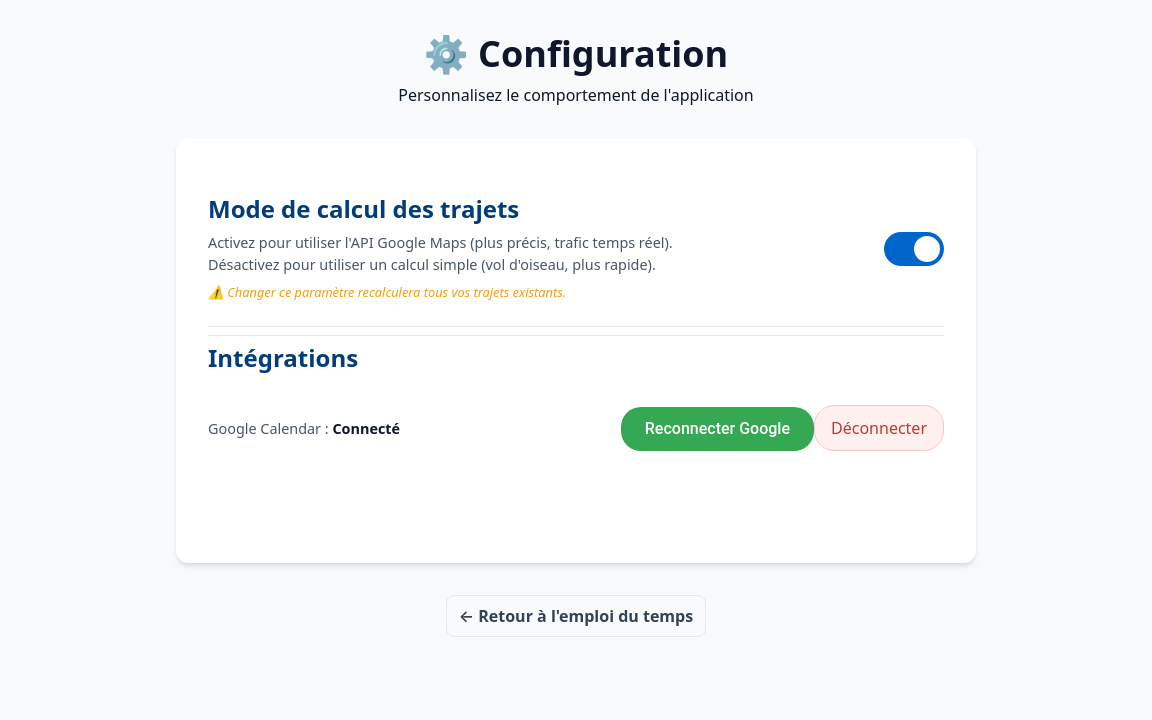
it: SetupPage › Notifications de succès › ✅ Devrait afficher la notification de déconnexion
Click the button "Déconnecter" at (879, 428), box [814,405,944,451]
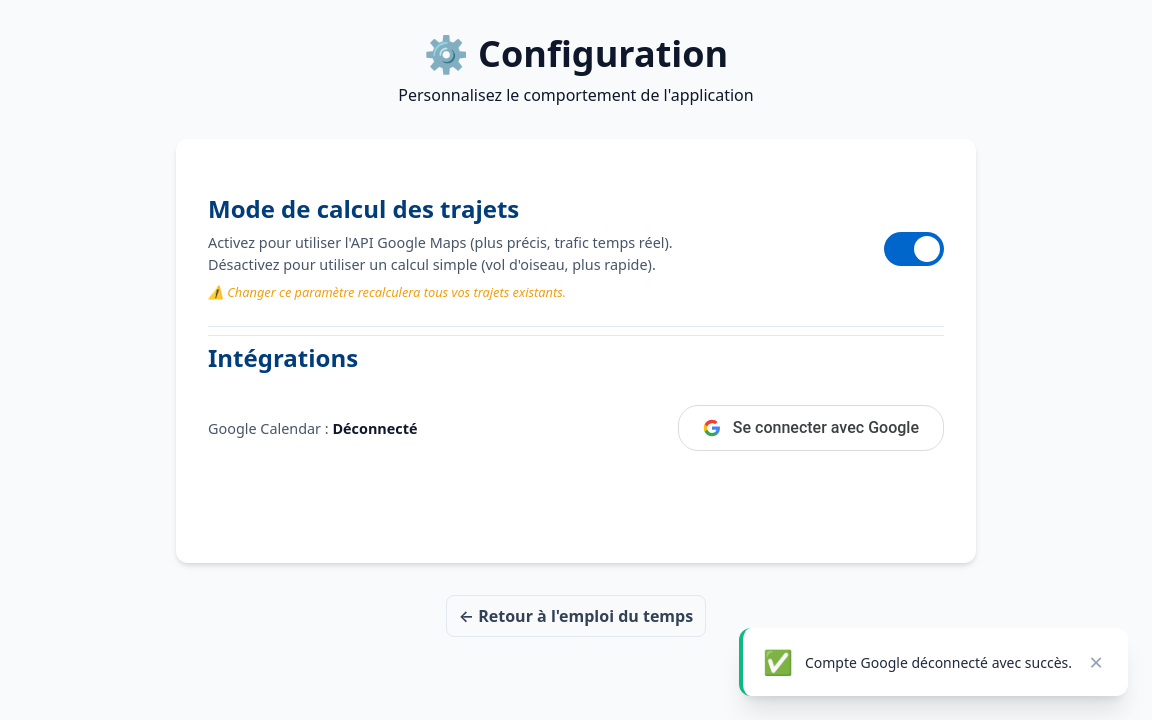
Check: the text "Compte Google déconnecté avec succès." is shown, box [805,652,1072,672]
